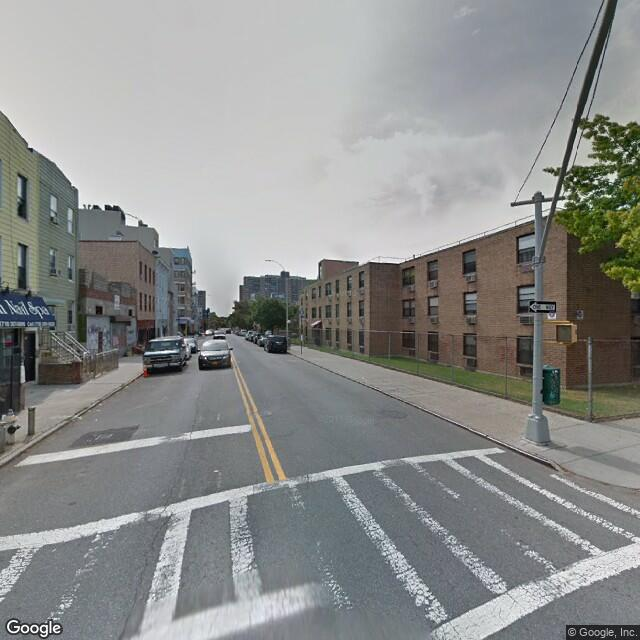litter: (95, 401, 106, 408), (73, 417, 87, 420)
